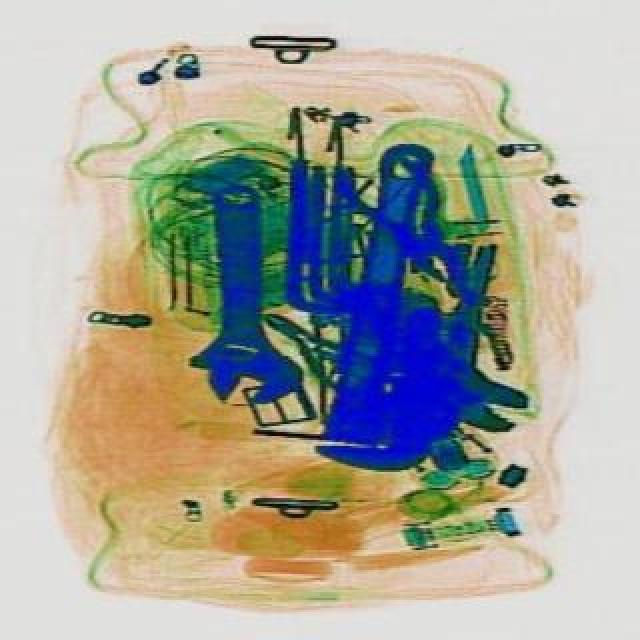scissors: (178, 180, 300, 404)
wrench: (326, 136, 484, 300)
